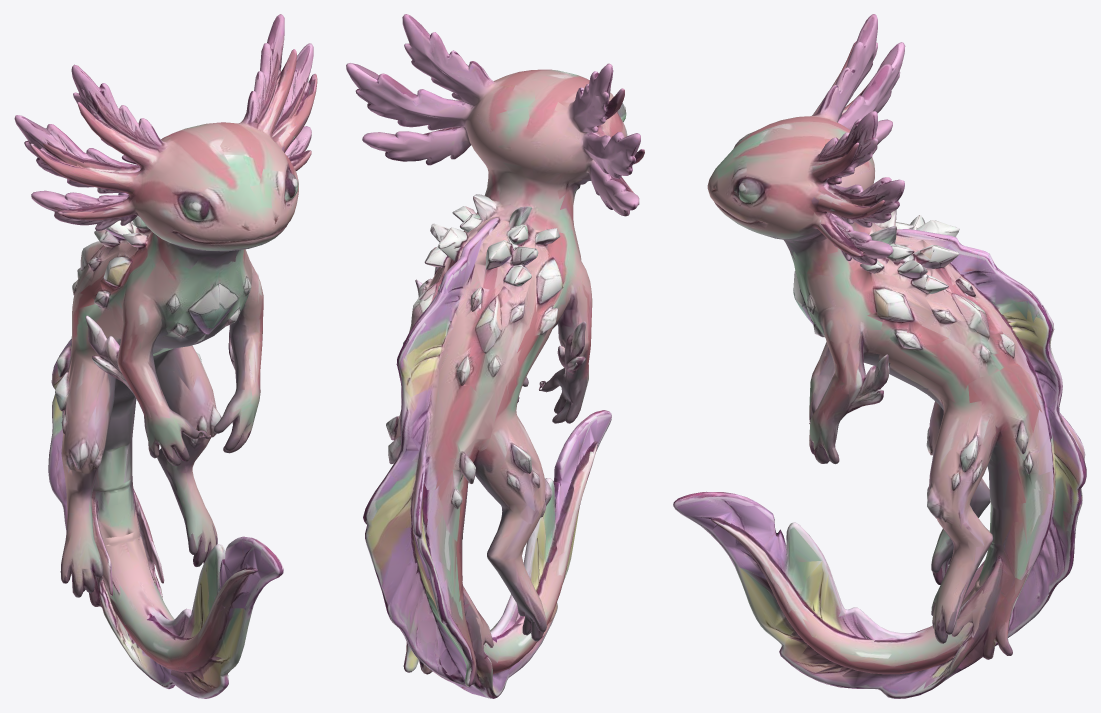
3 renders of one model, left to right at view 1: azimuth 30°, elevation 25°; view 2: azimuth 150°, elevation 25°; view 3: azimuth 270°, elevation 25°, orthographic. The views are drawn at different scales.
Visible parts, largest first — view 1: Mesh_0; view 2: Mesh_0; view 3: Mesh_0.
Boxes of the visible parts, bbox=[...] form: Mesh_0: bbox=[14, 14, 317, 698]; Mesh_0: bbox=[346, 14, 644, 698]; Mesh_0: bbox=[673, 14, 1086, 698].
Bounding box in the file's own units: 0.9024 × 1.9 × 1.12.
Materials: 1 (1 with a texture image).
